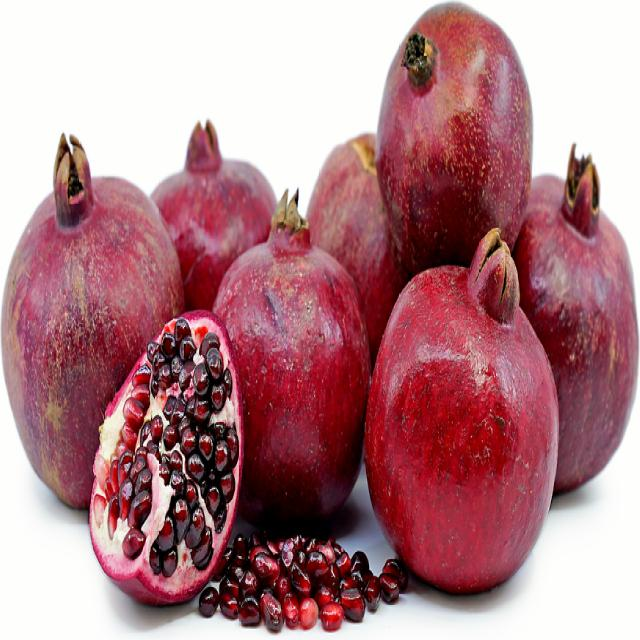Chilli Pepper: (1, 133, 185, 506)
Pomegranate: (365, 228, 559, 591), (214, 190, 371, 526), (90, 312, 242, 603), (514, 145, 639, 491), (375, 2, 532, 272), (306, 133, 410, 365), (152, 121, 276, 309), (200, 533, 381, 632), (192, 362, 210, 396), (158, 426, 173, 450)
